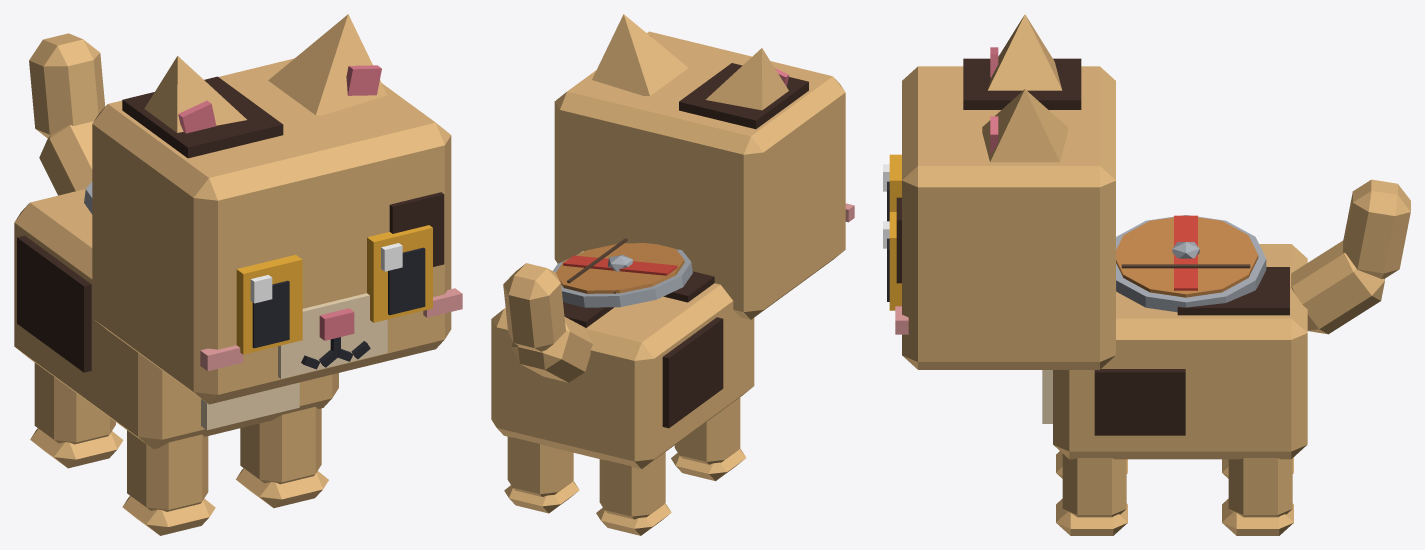
The model's file is CatCafe_Cat_Squire.glb.
3 views of the same model, side by side, from view 1: azimuth 30°, elevation 25°; view 2: azimuth 150°, elevation 25°; view 3: azimuth 270°, elevation 25° (orthographic). The views are drawn at different scales.
Parts seen in each view (by area): view 1: CatCafe_Cat_Squire_Head, CatCafe_Cat_Squire_Body, CatCafe_Cat_Squire_Tail, CatCafe_Cat_Squire_LegF2, CatCafe_Cat_Squire_LegF1, CatCafe_Cat_Squire_EarL, CatCafe_Cat_Squire_Eye2, CatCafe_Cat_Squire_LegB2, CatCafe_Cat_Squire_Eye1, CatCafe_Cat_Squire_EarR; view 2: CatCafe_Cat_Squire_Head, CatCafe_Cat_Squire_Body, CatCafe_Cat_Squire_Prop, CatCafe_Cat_Squire_Tail, CatCafe_Cat_Squire_LegB2, CatCafe_Cat_Squire_EarL, CatCafe_Cat_Squire_LegB1, CatCafe_Cat_Squire_LegF2, CatCafe_Cat_Squire_EarR; view 3: CatCafe_Cat_Squire_Head, CatCafe_Cat_Squire_Body, CatCafe_Cat_Squire_Prop, CatCafe_Cat_Squire_Tail, CatCafe_Cat_Squire_LegF1, CatCafe_Cat_Squire_LegB1, CatCafe_Cat_Squire_EarL, CatCafe_Cat_Squire_EarR, CatCafe_Cat_Squire_Eye1, CatCafe_Cat_Squire_Eye2.
Part boxes in pixels (<box>): CatCafe_Cat_Squire_Head: <box>92,58,462,404</box>; CatCafe_Cat_Squire_Body: <box>14,189,338,449</box>; CatCafe_Cat_Squire_Tail: <box>29,33,105,195</box>; CatCafe_Cat_Squire_LegF2: <box>122,430,215,535</box>; CatCafe_Cat_Squire_LegF1: <box>236,406,328,507</box>; CatCafe_Cat_Squire_EarL: <box>268,14,387,115</box>; CatCafe_Cat_Squire_Eye2: <box>236,254,302,354</box>; CatCafe_Cat_Squire_LegB2: <box>30,362,123,468</box>; CatCafe_Cat_Squire_Eye1: <box>367,225,432,322</box>; CatCafe_Cat_Squire_EarR: <box>144,56,246,133</box>; CatCafe_Cat_Squire_Head: <box>554,31,854,319</box>; CatCafe_Cat_Squire_Body: <box>491,251,754,469</box>; CatCafe_Cat_Squire_Prop: <box>553,238,692,307</box>; CatCafe_Cat_Squire_Tail: <box>503,263,592,382</box>; CatCafe_Cat_Squire_LegB2: <box>596,452,671,535</box>; CatCafe_Cat_Squire_EarL: <box>592,14,688,95</box>; CatCafe_Cat_Squire_LegB1: <box>504,437,579,513</box>; CatCafe_Cat_Squire_LegF2: <box>671,397,746,481</box>; CatCafe_Cat_Squire_EarR: <box>705,48,789,110</box>; CatCafe_Cat_Squire_Head: <box>895,58,1115,369</box>; CatCafe_Cat_Squire_Body: <box>1042,244,1307,459</box>; CatCafe_Cat_Squire_Prop: <box>1116,215,1266,312</box>; CatCafe_Cat_Squire_Tail: <box>1291,179,1410,334</box>; CatCafe_Cat_Squire_LegF1: <box>1056,454,1127,535</box>; CatCafe_Cat_Squire_LegB1: <box>1222,458,1293,535</box>; CatCafe_Cat_Squire_EarL: <box>982,89,1067,162</box>; CatCafe_Cat_Squire_EarR: <box>987,14,1062,90</box>; CatCafe_Cat_Squire_Eye1: <box>883,212,901,310</box>; CatCafe_Cat_Squire_Eye2: <box>883,154,901,221</box>.
Bounding box in the file's own units: 1 × 1.86 × 1.97.
1 material, 1 textured.
